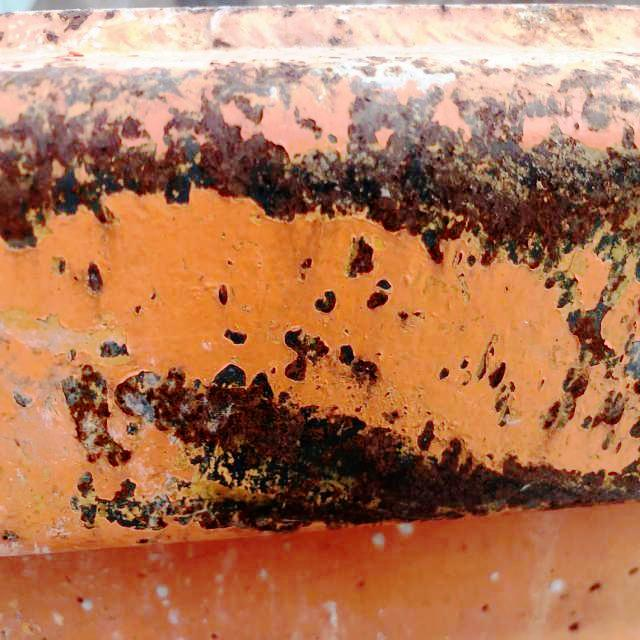Corrosion: (0, 49, 640, 449), (57, 322, 640, 535), (416, 2, 640, 53), (461, 335, 518, 428), (169, 4, 336, 21), (35, 0, 121, 30), (347, 236, 375, 278), (367, 279, 393, 310), (328, 16, 354, 47), (86, 262, 103, 295), (398, 311, 430, 328), (315, 291, 337, 314), (224, 329, 246, 345), (299, 257, 313, 280), (52, 256, 68, 276), (14, 392, 32, 408), (213, 37, 233, 48), (218, 285, 228, 304), (2, 533, 19, 544), (0, 11, 11, 20), (133, 305, 142, 314), (0, 29, 4, 42)
